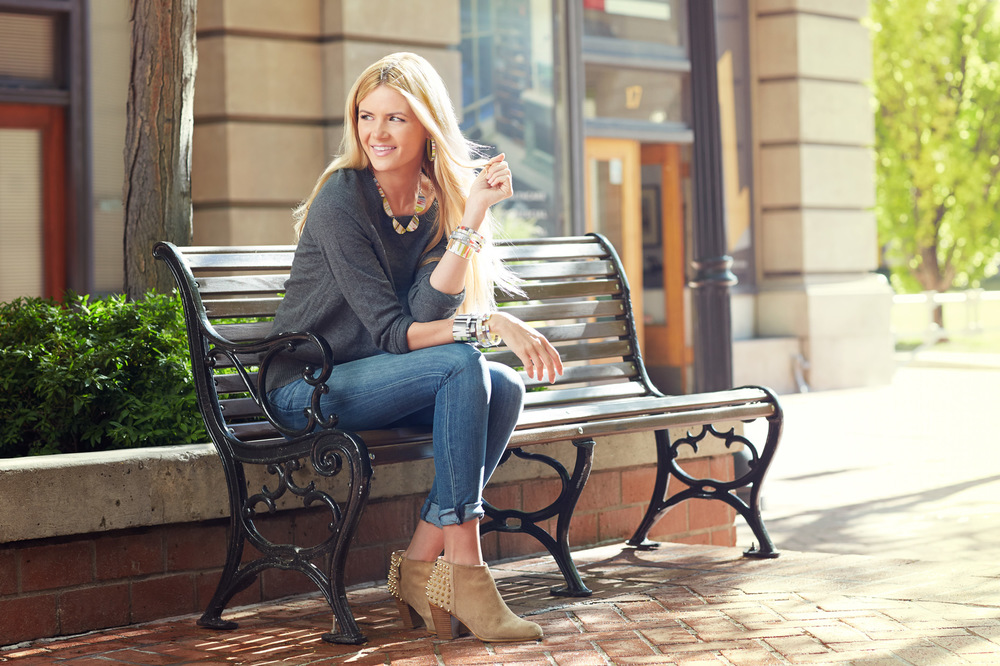Person: (315, 53, 545, 618)
